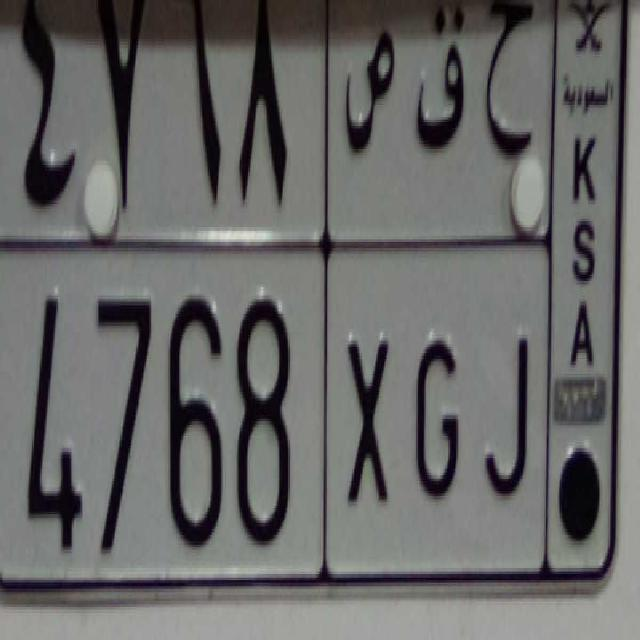license_plate: (0, 240, 548, 592)
